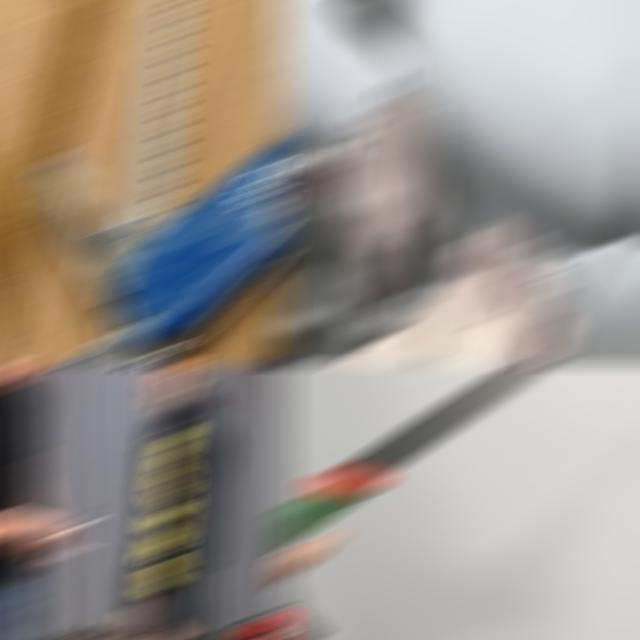Knife: (273, 366, 561, 547)
Knife_Handle: (328, 81, 440, 355), (15, 511, 95, 557)
